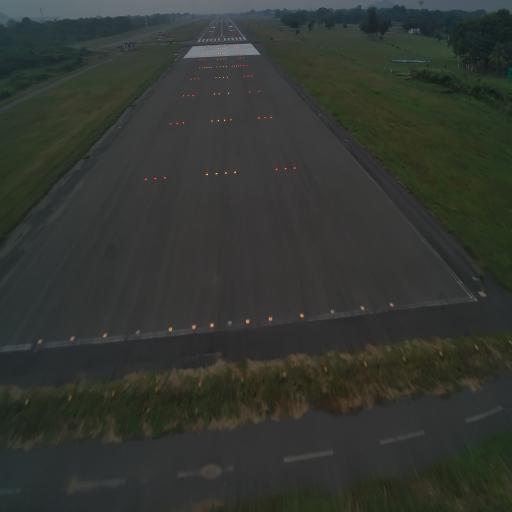off: (133, 326, 141, 339), (227, 318, 234, 329)
on: (37, 334, 44, 348), (298, 308, 305, 322), (68, 332, 76, 344), (102, 329, 109, 342), (329, 304, 336, 317), (166, 324, 173, 336), (191, 321, 198, 333), (267, 312, 273, 326), (244, 317, 251, 328), (388, 299, 395, 310), (210, 320, 216, 331), (359, 302, 365, 311), (143, 176, 148, 182), (283, 166, 288, 172), (153, 176, 157, 183), (215, 171, 219, 178), (223, 170, 227, 177), (292, 164, 296, 171), (163, 176, 167, 182), (233, 170, 237, 176), (206, 171, 209, 178), (275, 166, 278, 172)
